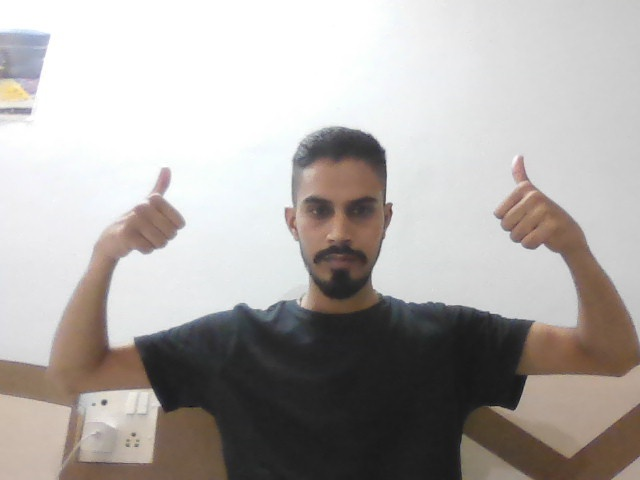ThumbsUp: (111, 160, 198, 268)
